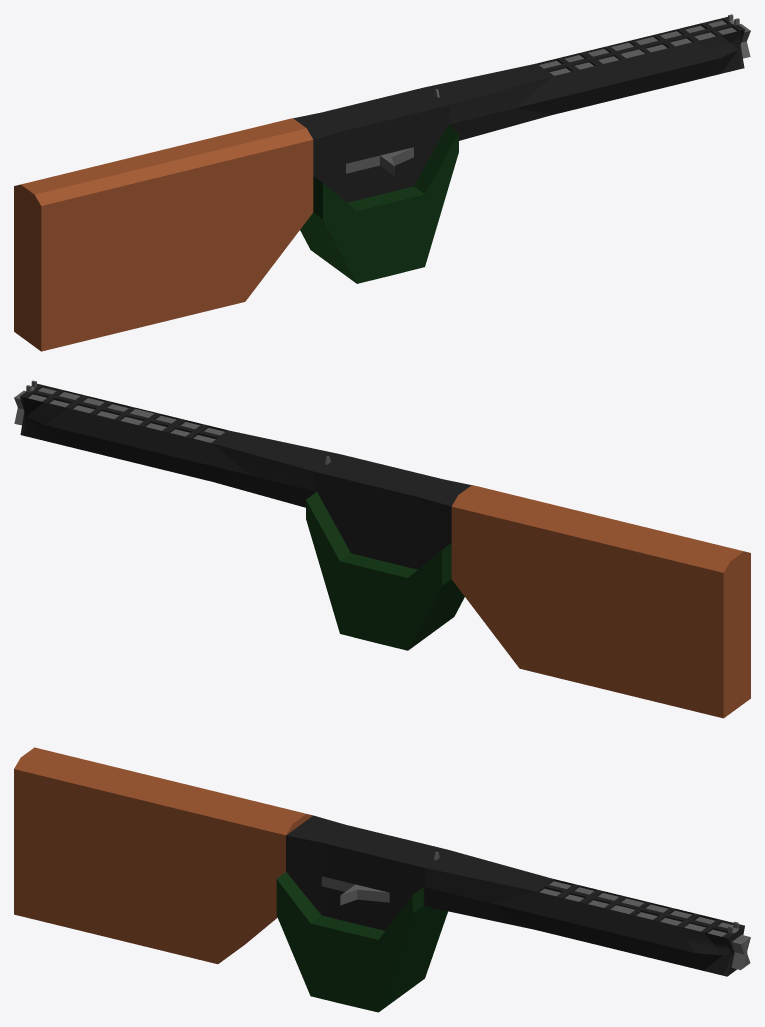
Rendered from Machine_Gun_Model.fbx.
3 renders of one model, top to bottom at view 1: azimuth 30°, elevation 25°; view 2: azimuth 150°, elevation 25°; view 3: azimuth 330°, elevation 25°, orthographic.
Visible parts, largest first — view 1: Cube; view 2: Cube; view 3: Cube.
Part boxes in pixels (<box>): Cube: <box>14,14,750,351</box>; Cube: <box>14,380,750,718</box>; Cube: <box>14,747,750,1012</box>.
Bounding box in the file's own units: 192 × 38.93 × 23.39.
